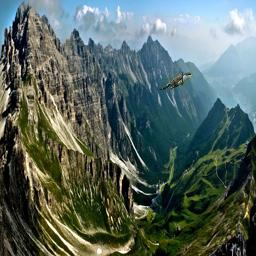Cuckoo: (158, 72, 193, 90)
